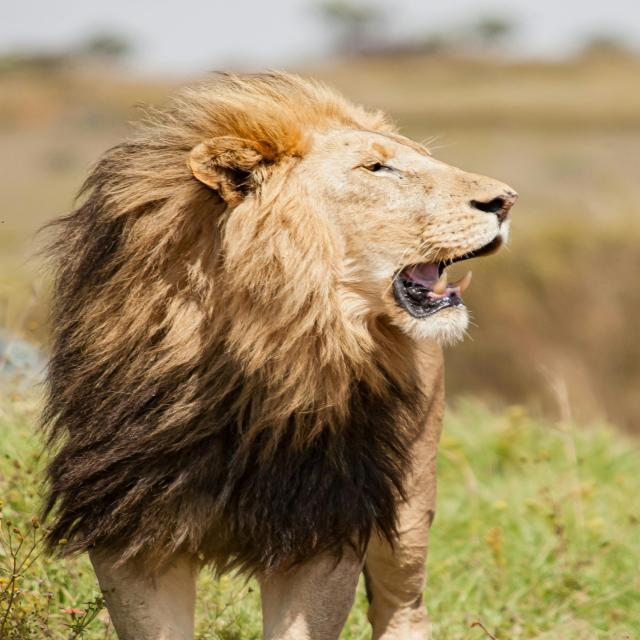Lion: (37, 74, 519, 640)
